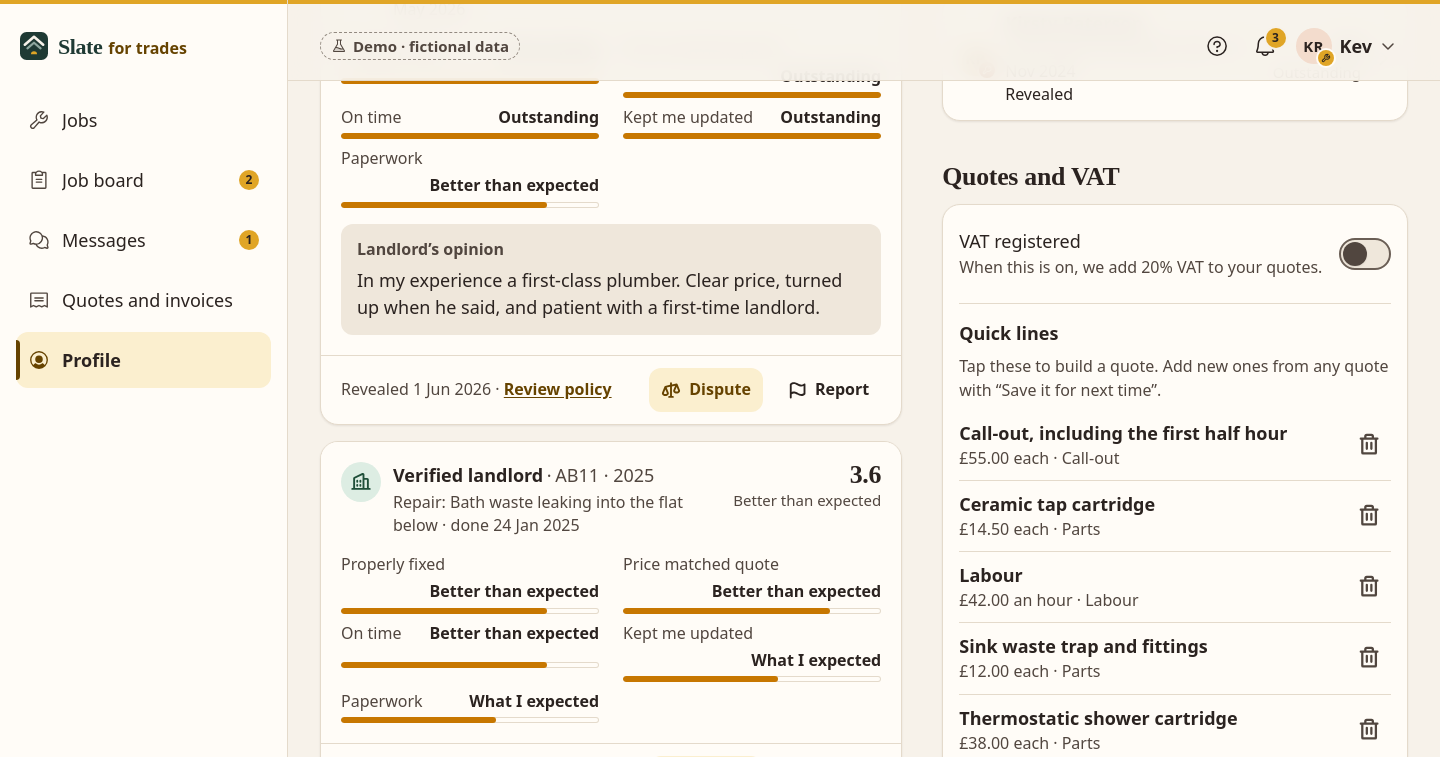
Test: reviews of the trade › opens the four report routes from a review
This screenshot has width=1440, height=757.
(page scrolled)
Click the 1st button "Report".
click(828, 390)  # box [775, 368, 881, 412]
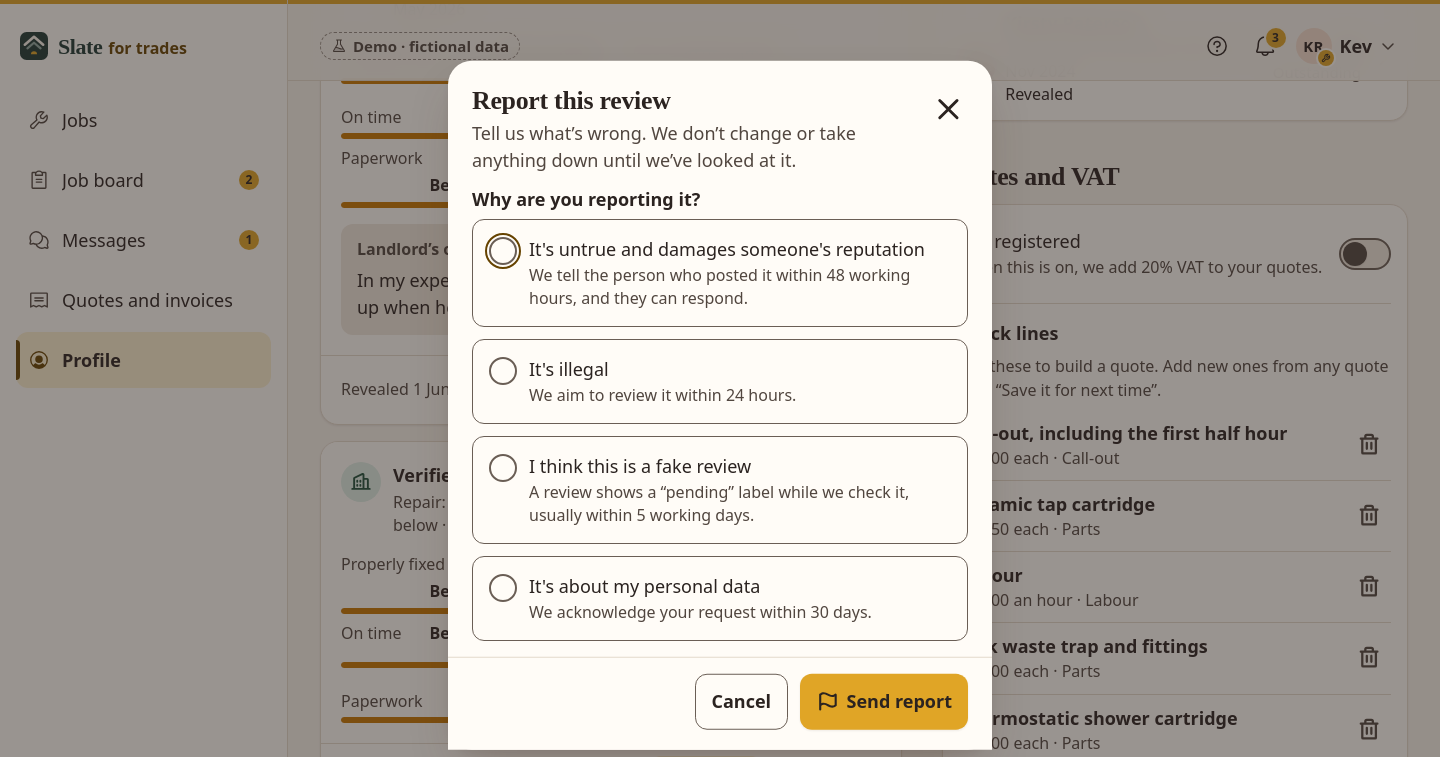
expect the text "I think this is a fake review" is shown: met, box [529, 454, 751, 478]
